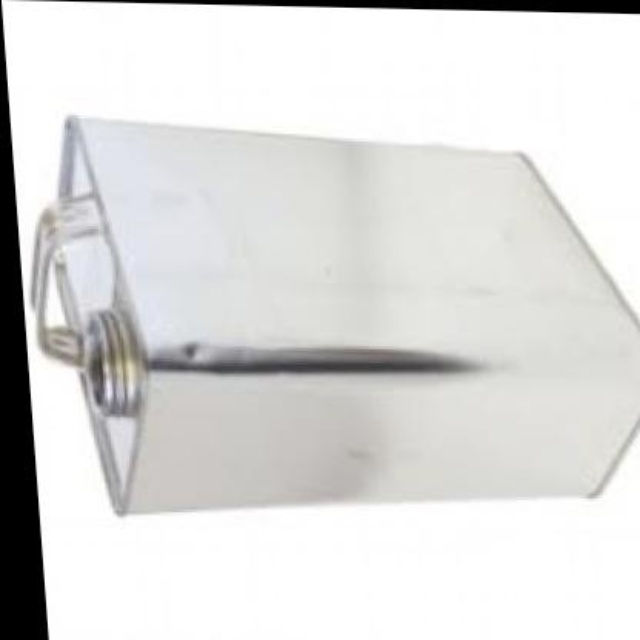trash: (31, 117, 638, 512)
